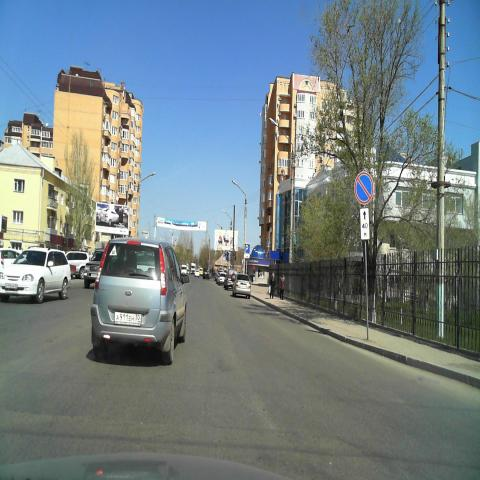3_28: (354, 171, 374, 205)
